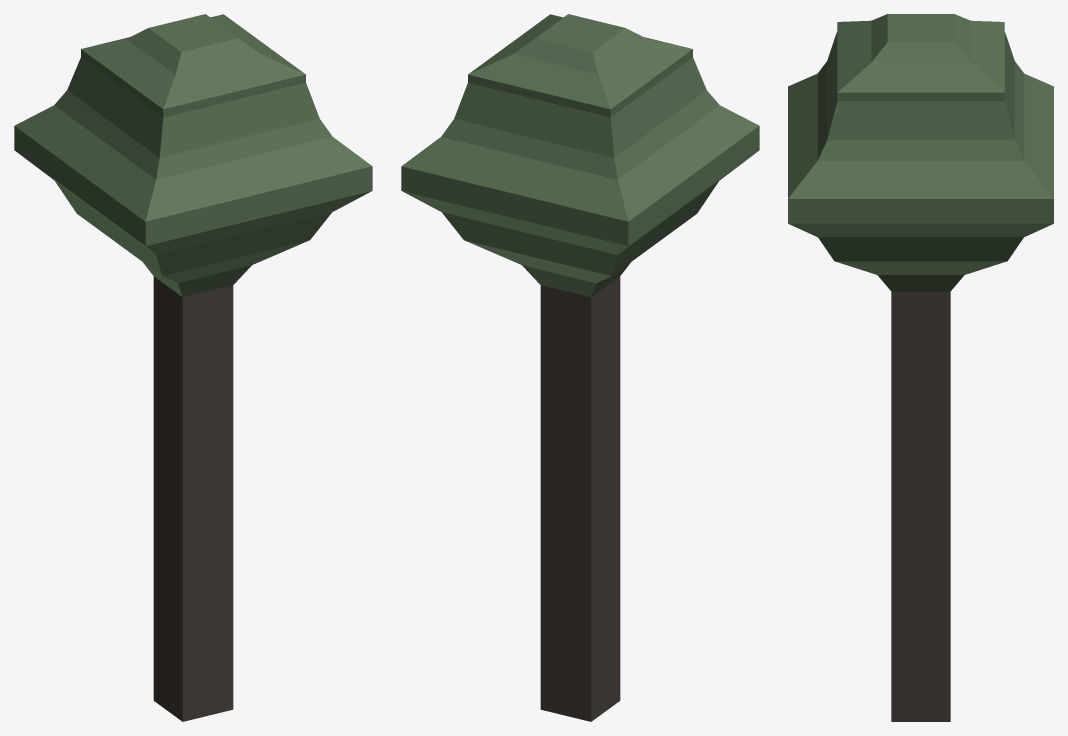
Rendered from Tree1.fbx.
3 renders of one model, left to right at view 1: azimuth 30°, elevation 25°; view 2: azimuth 150°, elevation 25°; view 3: azimuth 270°, elevation 25°, orthographic.
Visible parts, largest first — view 1: Tree_1; view 2: Tree_1; view 3: Tree_1.
Part boxes in pixels (box(x1,y1,x2,y2)): Tree_1: box(14, 14, 372, 721); Tree_1: box(401, 14, 759, 721); Tree_1: box(788, 14, 1053, 721).
Size of the model in its own units: 2.24 by 6.33 by 2.24.
